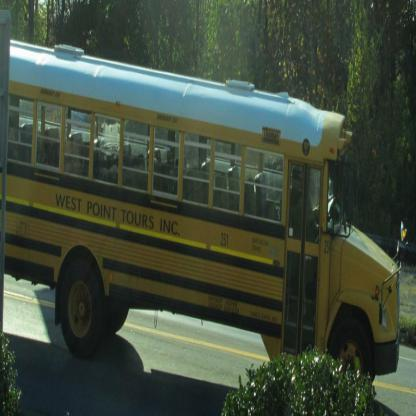Bus: (0, 34, 411, 416)
